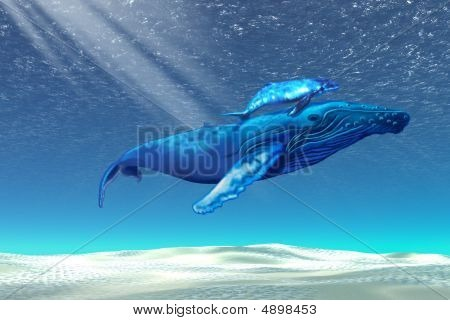fish: (88, 101, 411, 212), (226, 73, 338, 128)
